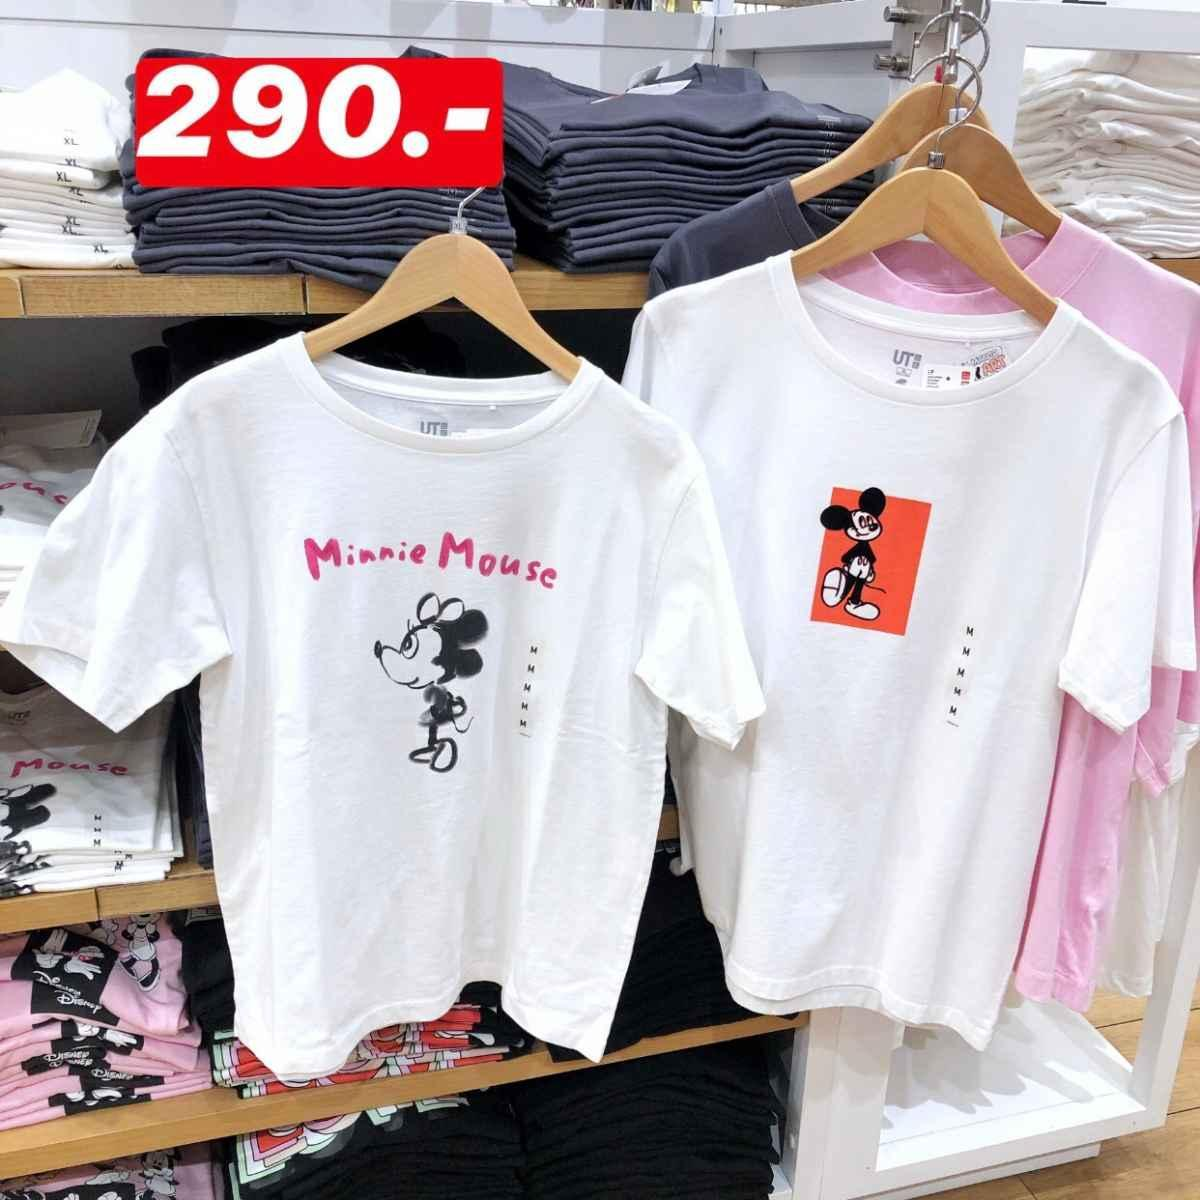Tshirt: (0, 325, 776, 1084), (607, 249, 1200, 1046)
